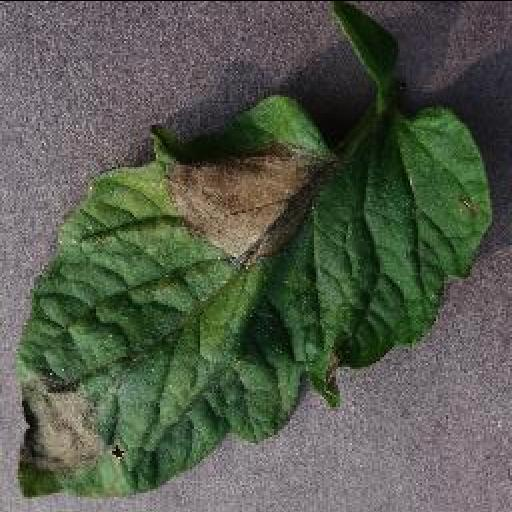disease_tomato: (12, 92, 496, 502)
